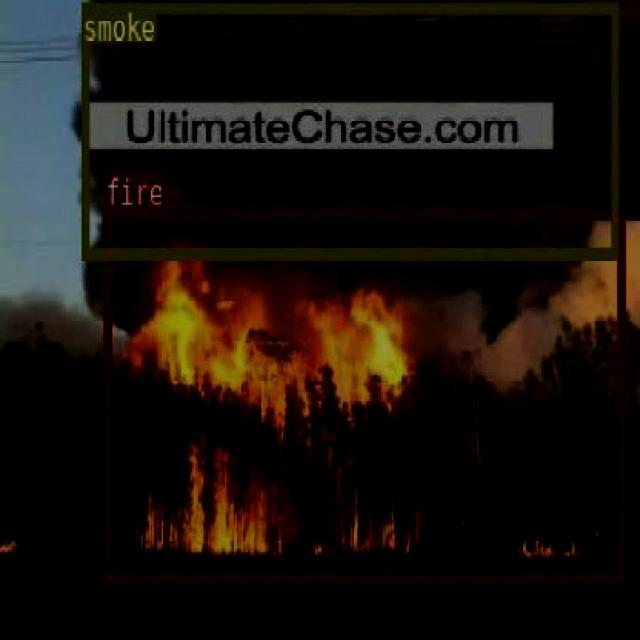fire: (103, 207, 623, 582)
smoke: (80, 1, 617, 258)
